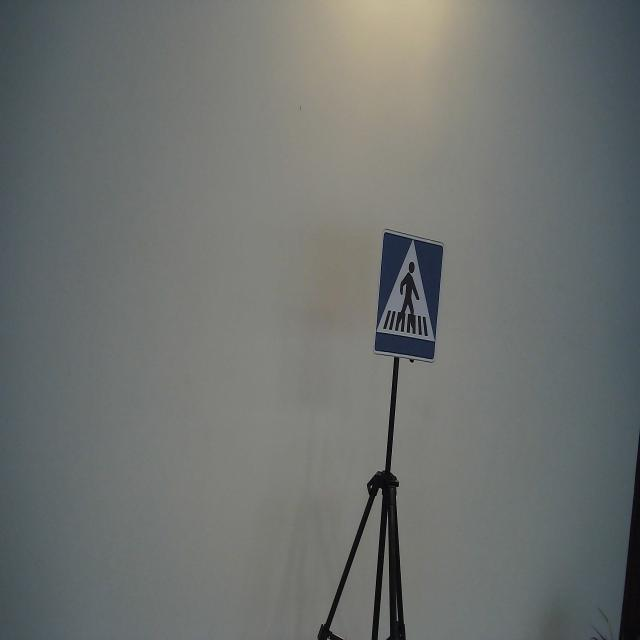crosswalk_sign: (370, 226, 447, 366)
